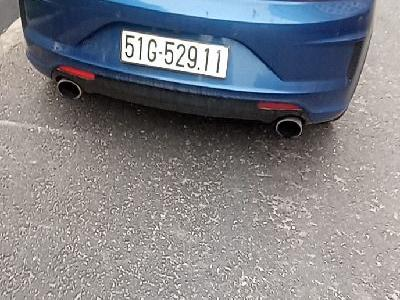lisence: (118, 26, 231, 81)
